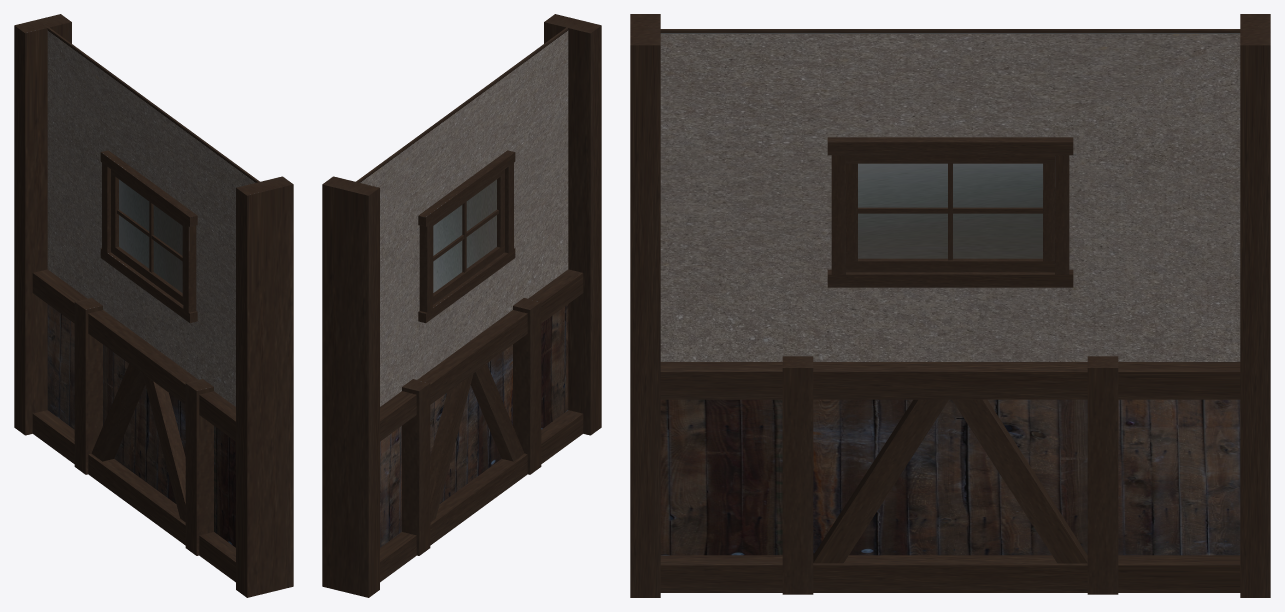
Rendered from OutdoorArchitecture_BasicWall03_Window03_BothEdges_BShortt.fbx.
3 views of the same model, side by side, from view 1: azimuth 30°, elevation 25°; view 2: azimuth 150°, elevation 25°; view 3: azimuth 270°, elevation 25° (orthographic). The views are drawn at different scales.
Parts seen in each view (by area): view 1: OutdoorArchitecture_BasicWall03_Window03_BothEdges_BShortt; view 2: OutdoorArchitecture_BasicWall03_Window03_BothEdges_BShortt; view 3: OutdoorArchitecture_BasicWall03_Window03_BothEdges_BShortt.
Boxes of the visible parts, x1,y1,x2,y2 form: OutdoorArchitecture_BasicWall03_Window03_BothEdges_BShortt: (14,14,293,597); OutdoorArchitecture_BasicWall03_Window03_BothEdges_BShortt: (322,14,601,597); OutdoorArchitecture_BasicWall03_Window03_BothEdges_BShortt: (630,14,1270,597).
Size of the model in its own units: 36.37 by 300 by 315.
